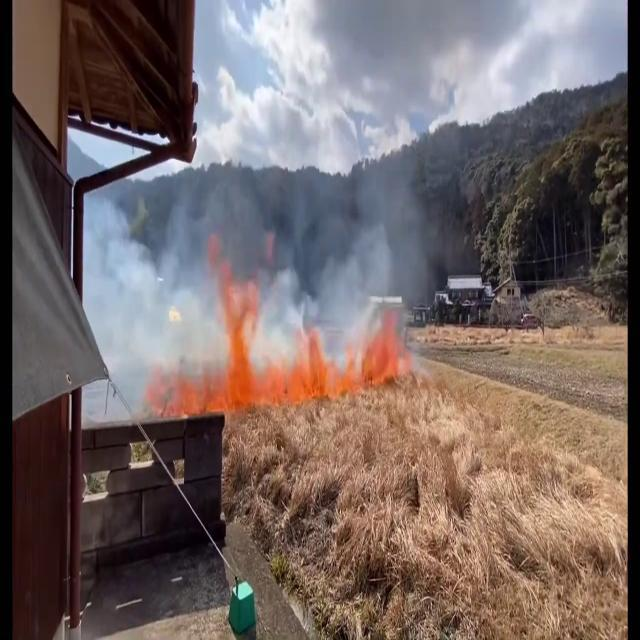Fire: (154, 264, 413, 441)
Smoke: (77, 146, 244, 382), (293, 124, 456, 362)
